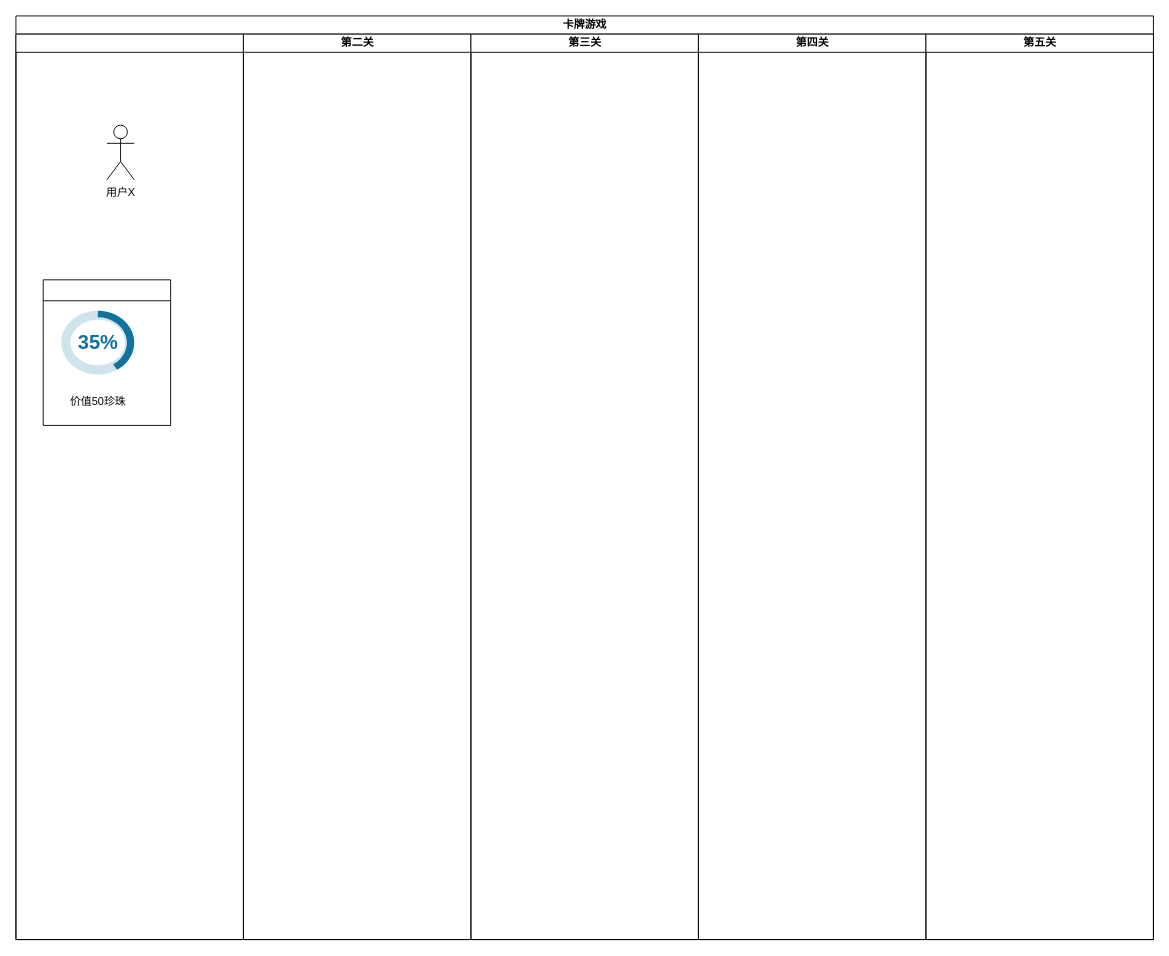
This 1169x956 diagram has some shape labels left out. The shapes that lost their labels are listed below. From the top down, each one's box as (x1, y1, x2, y2) in pixels, then its label:
(42, 279, 171, 425): 卡牌
(15, 33, 243, 940): 第一关
